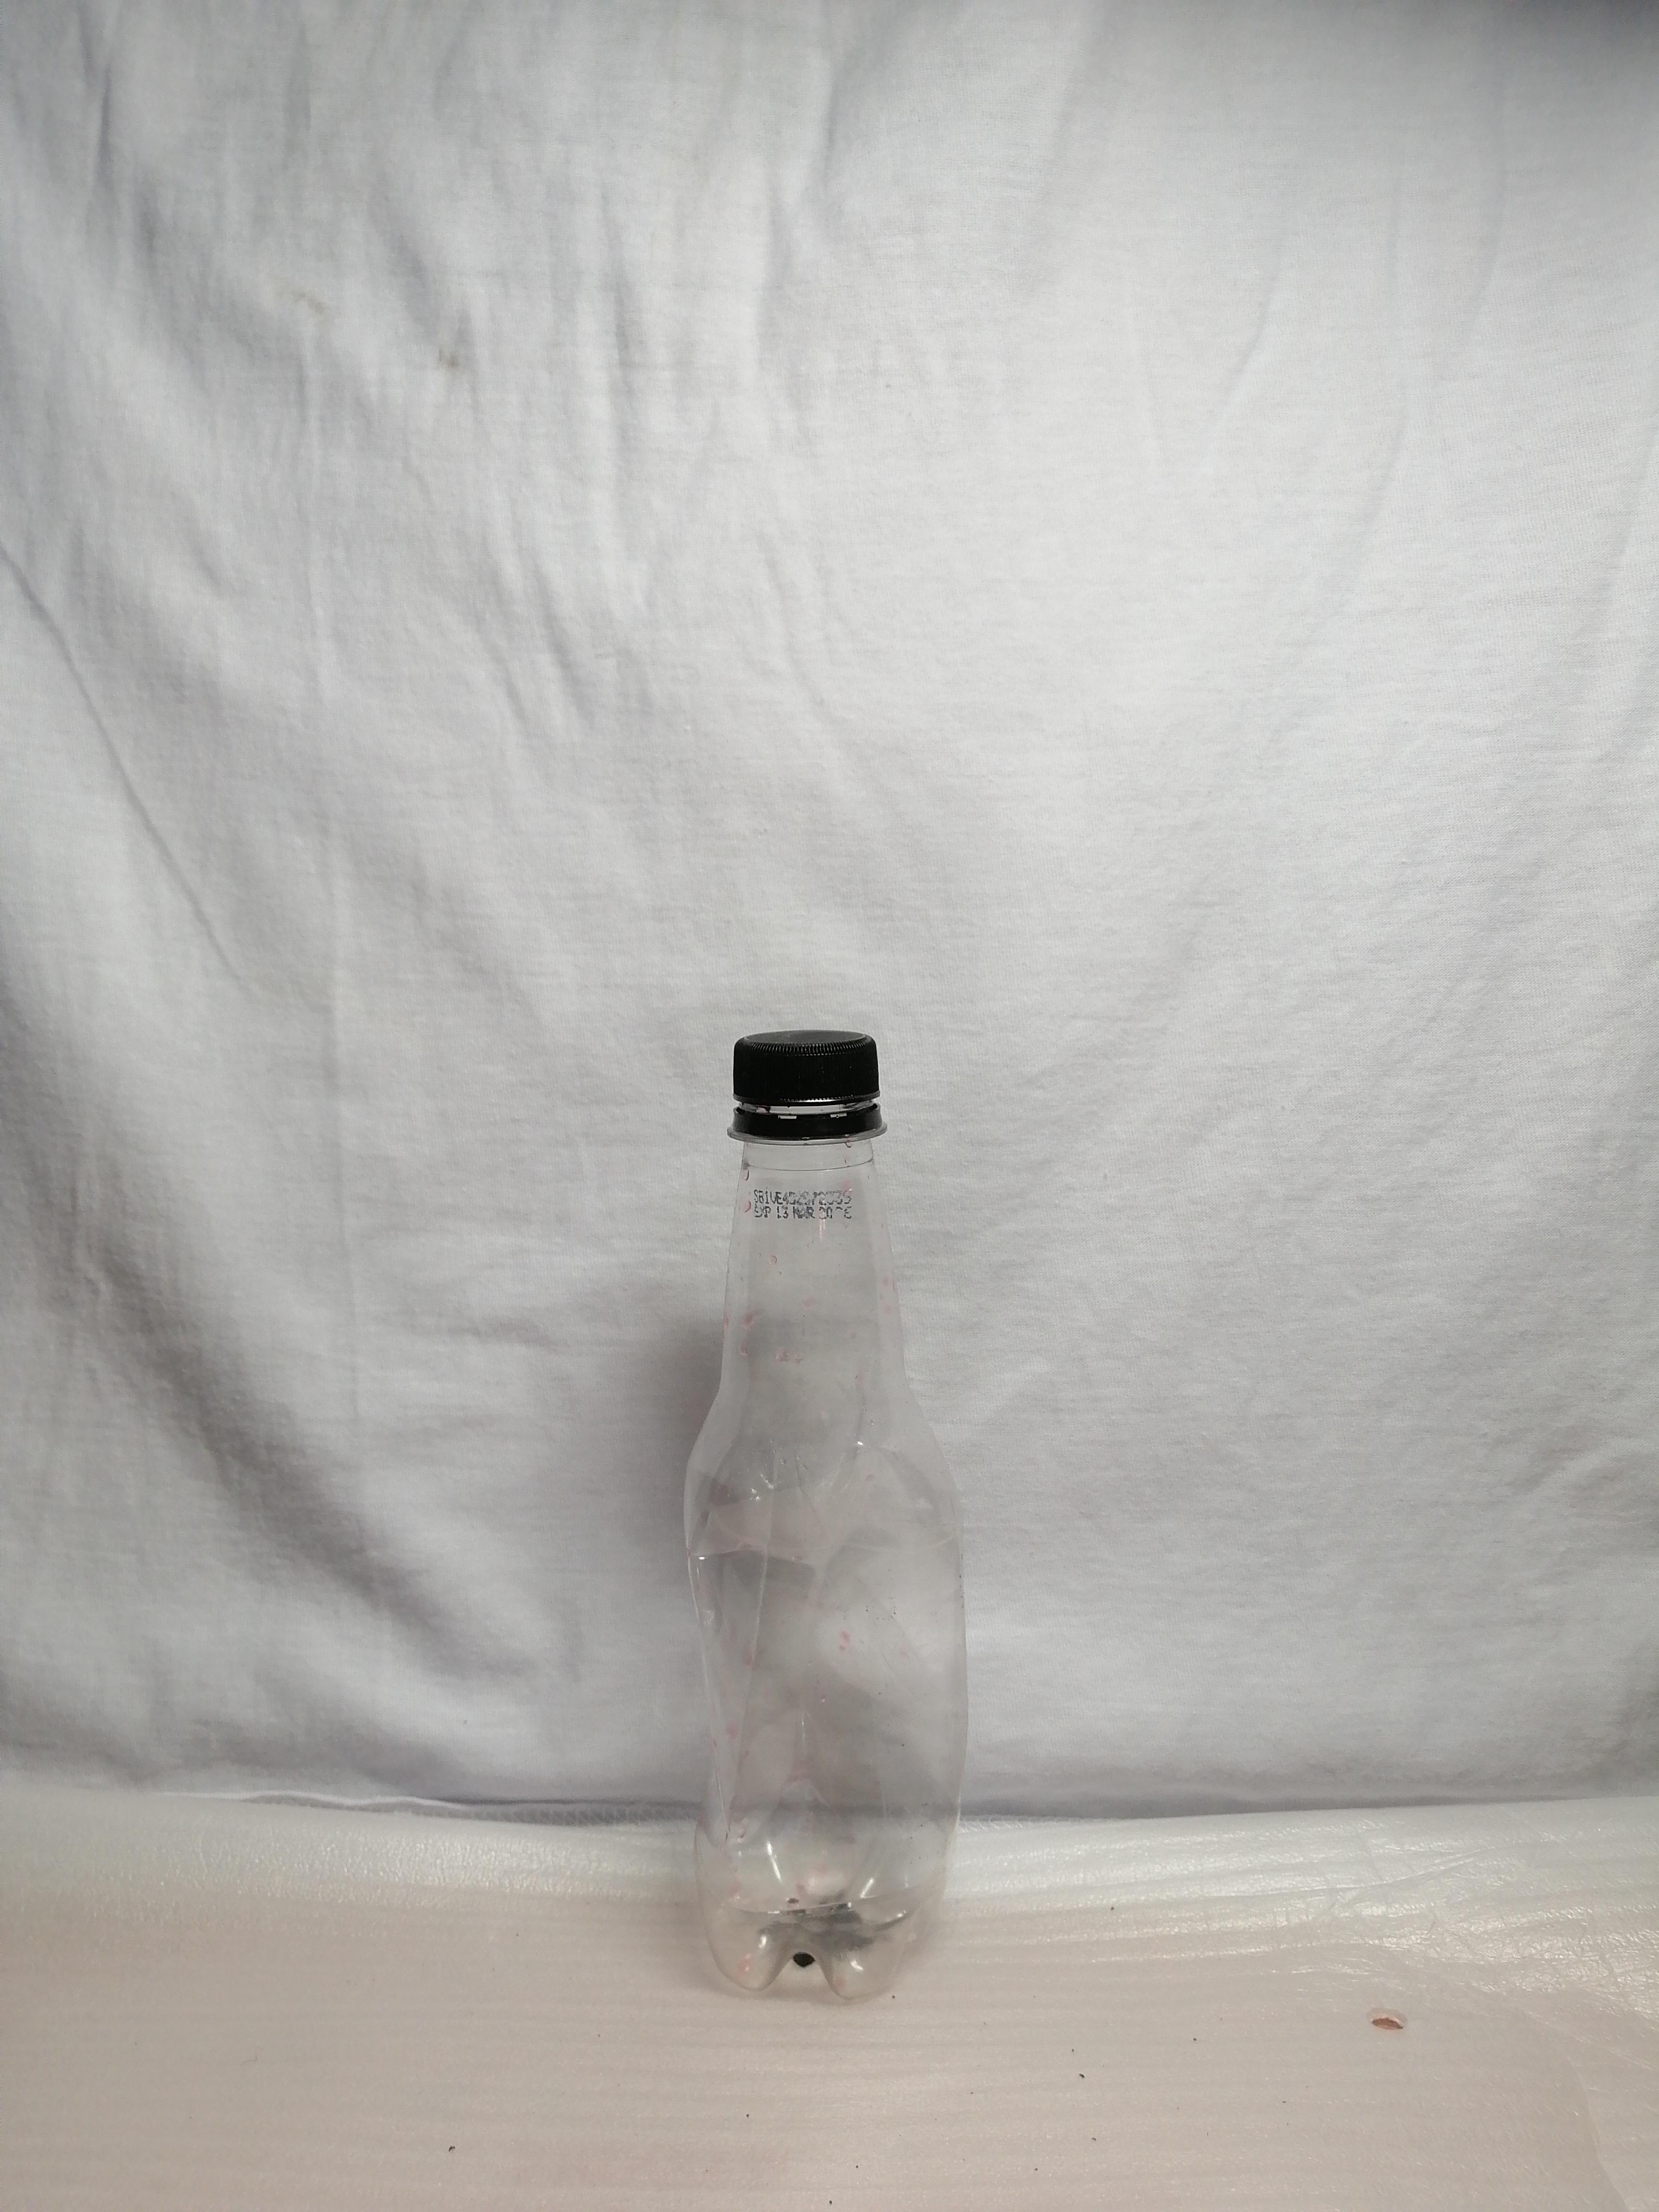plastic-bottle: (571, 888, 1037, 2035)
